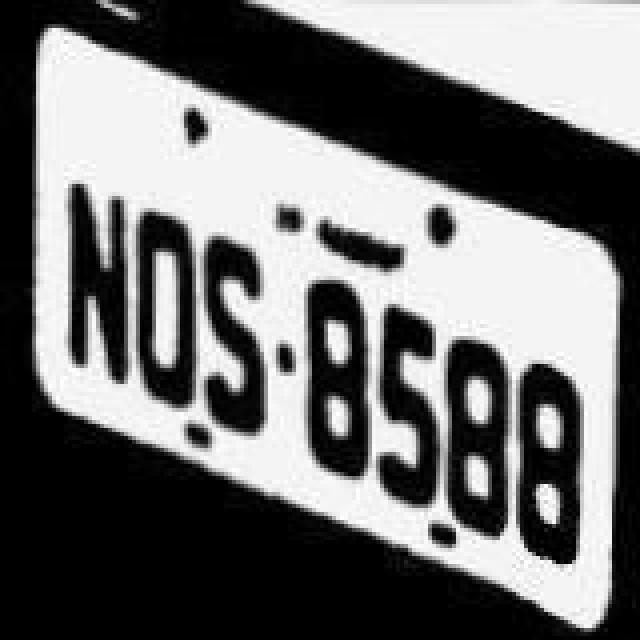5: (366, 280, 442, 520)
8: (508, 320, 588, 576), (442, 296, 518, 536), (298, 262, 378, 486)
N: (50, 152, 130, 408)
O: (128, 176, 204, 420)
S: (198, 232, 278, 432)
